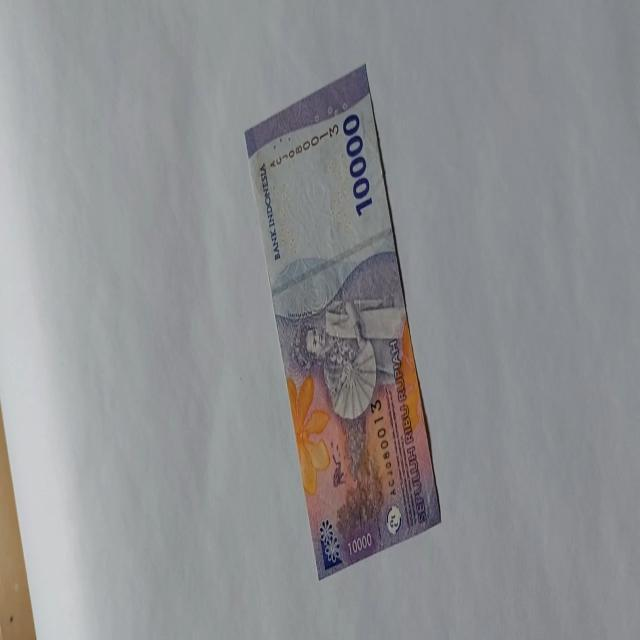sepuluh ribu rupiah: (243, 62, 442, 580)
